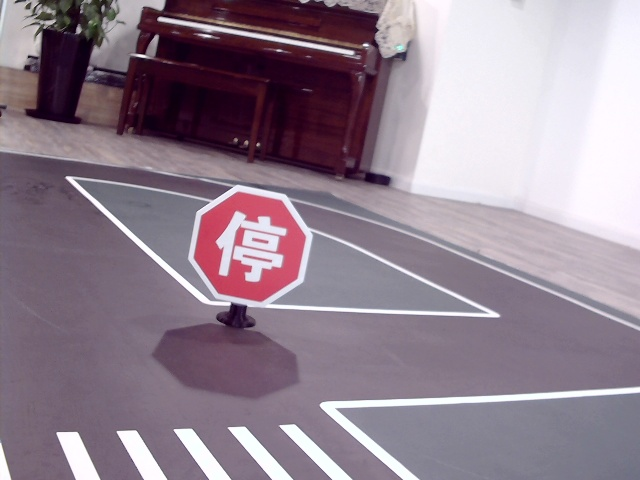stop: (213, 210, 287, 280)
